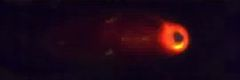keyhole: (171, 29, 186, 45)
